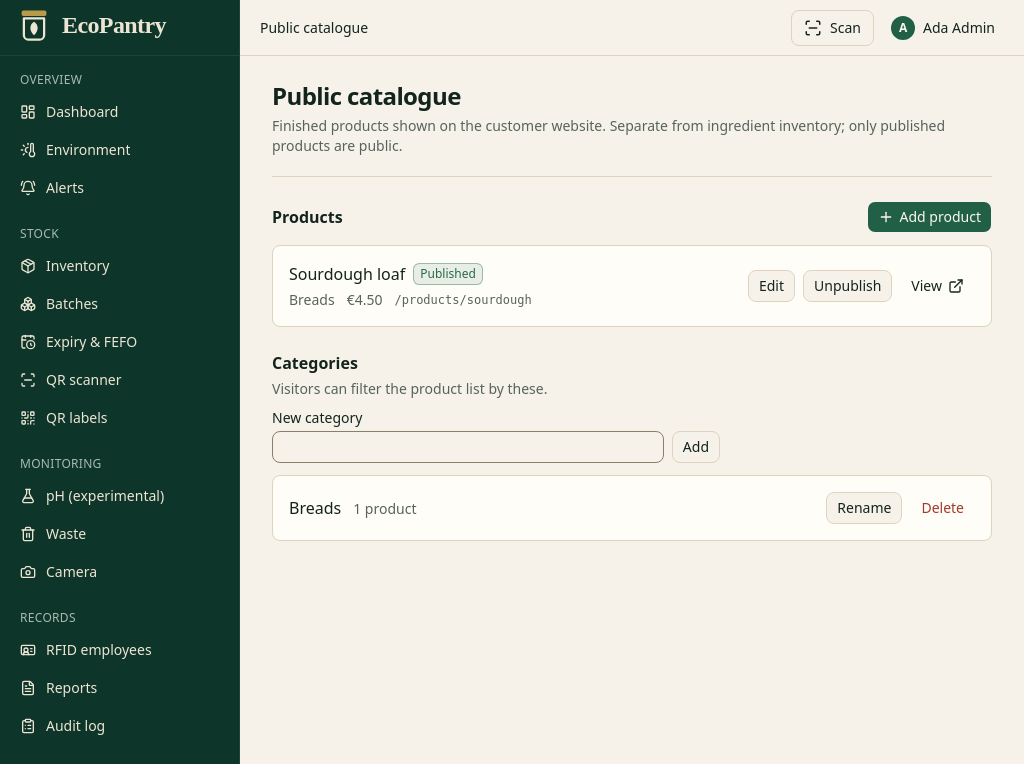
portal catalogue page › adds a product as a draft, sending the CSRF token
Check: the text "Sourdough loaf" is shown, box x1=289 y1=262 x2=405 y2=286
Step 1. Click the button "Add product" → (929,217), box x1=867 y1=201 x2=992 y2=233
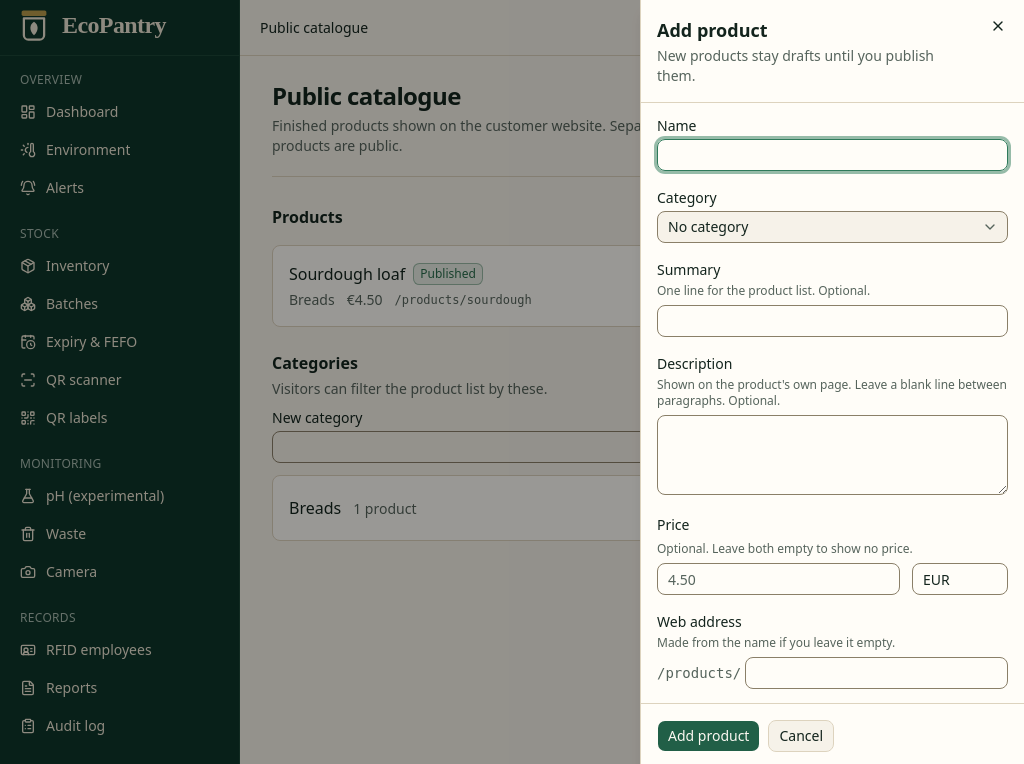
Check: the field named "Currency code" holds "EUR", box x1=912 y1=563 x2=1008 y2=595
Step 2. Type "Cinnamon roll" into the field labelled "Name" → (832,155), box x1=657 y1=139 x2=1008 y2=171
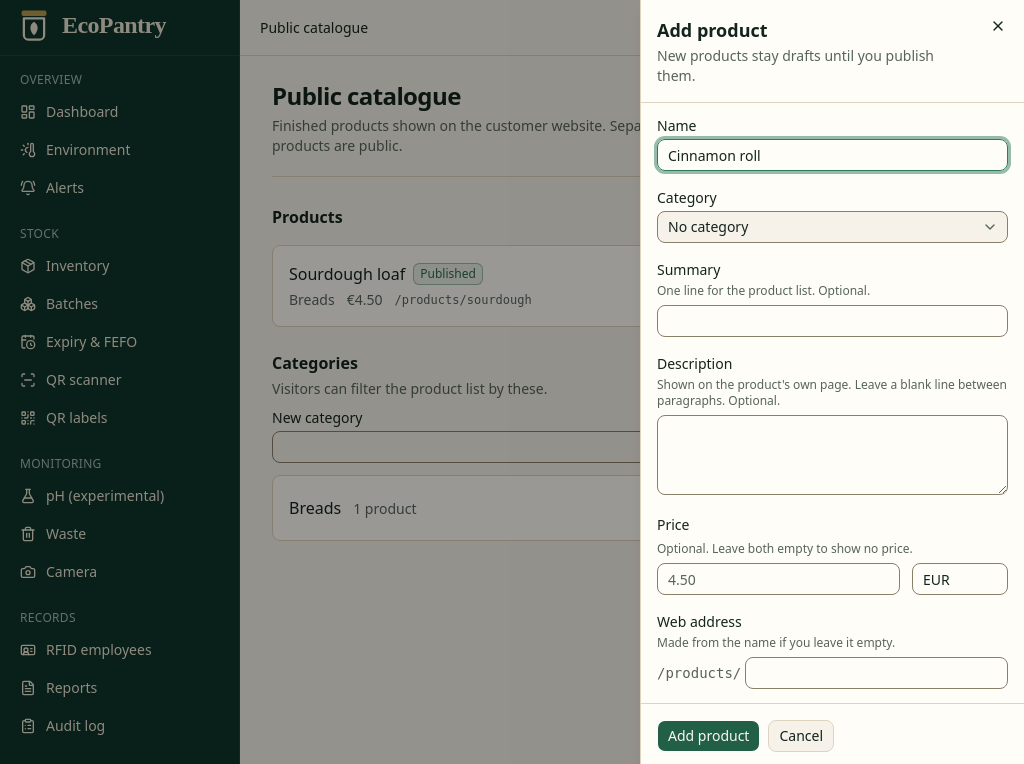
Step 3. Type "2.20" into the field named "Amount" → (778,579), box x1=657 y1=563 x2=900 y2=595
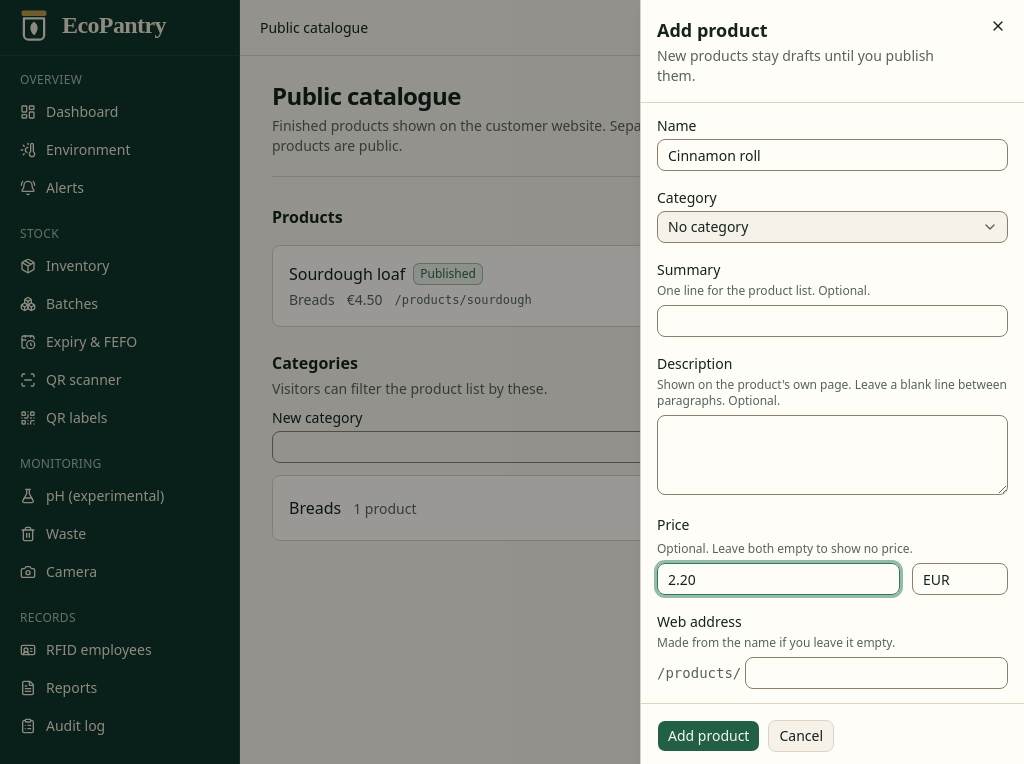
Step 4. Click the button "Add product" → (709,736), box x1=657 y1=720 x2=760 y2=752
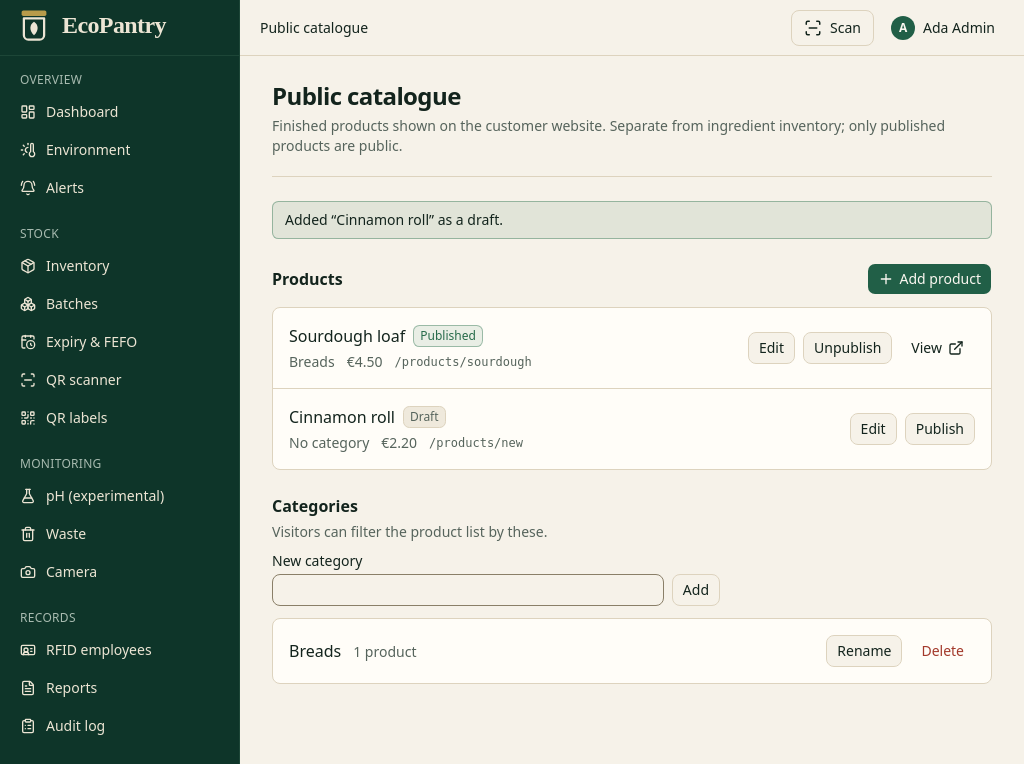
Check: the text "Added “Cinnamon roll” as a draft." is shown, box x1=272 y1=201 x2=992 y2=239
